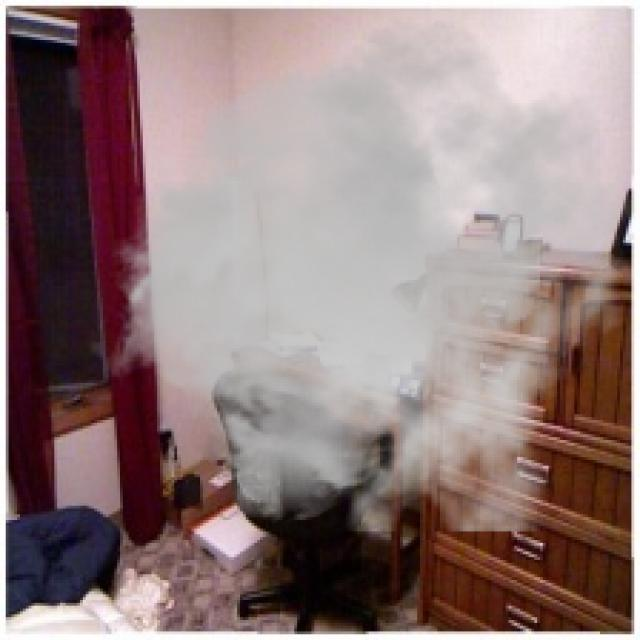smoke: (103, 17, 637, 534)
